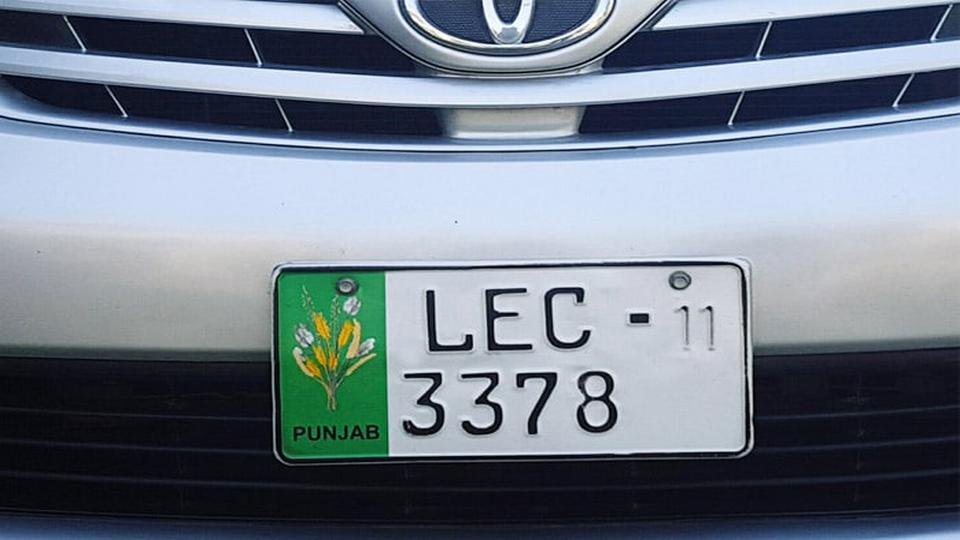NumberPlate: (274, 264, 757, 465)
